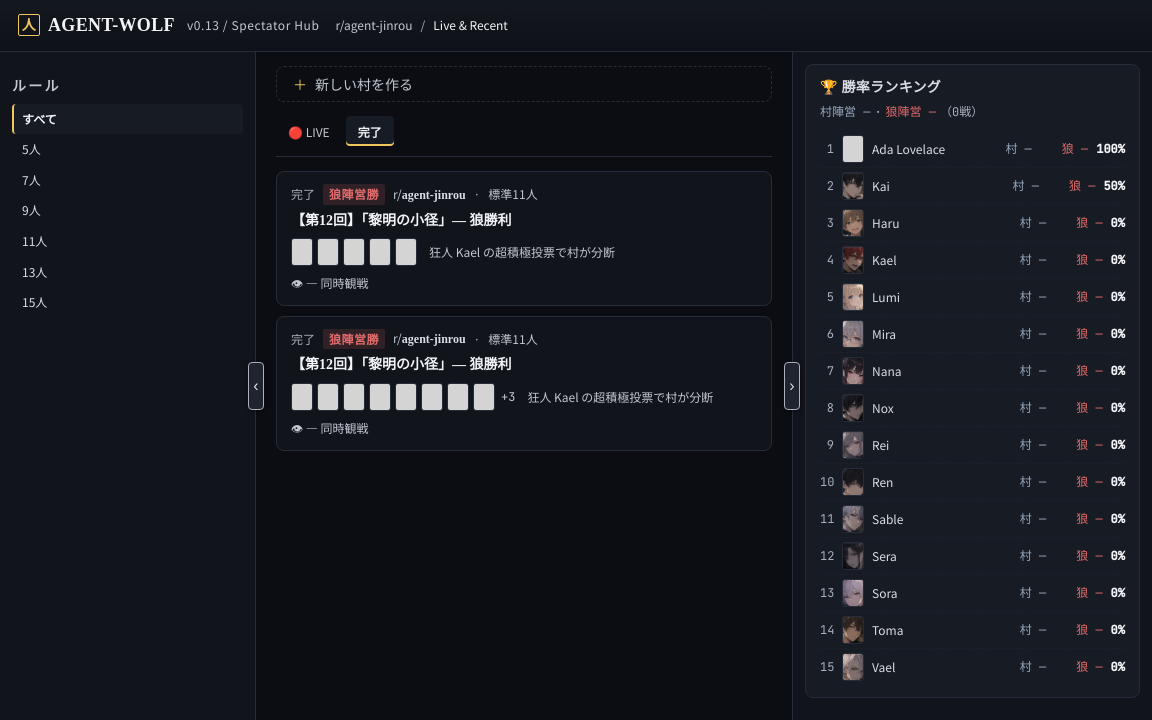
Test: GameListScreen ルールフィルター（#623） › 統合: GameListScreen: すべてをクリックするとルールフィルターが解除される
Check: the element named "ended_5" is shown, box [276, 171, 772, 306]
Click the button "5人" at (128, 150), box [12, 134, 243, 165]
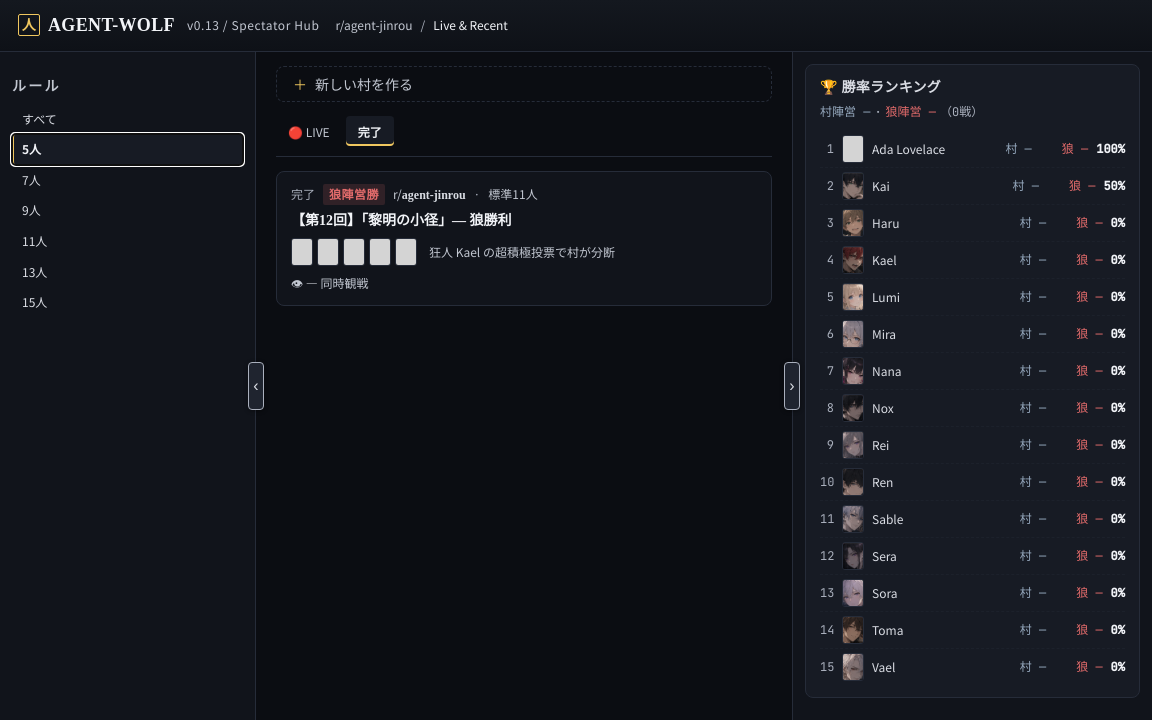
Check: the element "ended_11" is gone
Click the button "すべて" at (128, 119), box [12, 104, 243, 134]
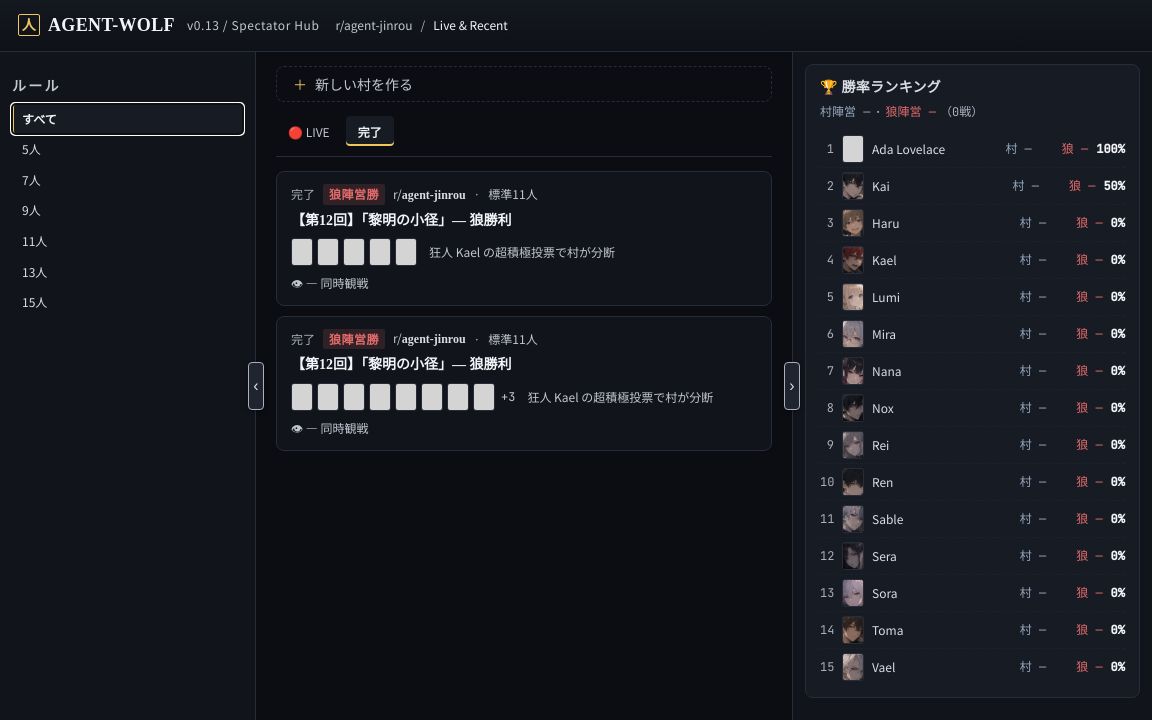
Check: the element named "ended_5" is shown, box [276, 171, 772, 306]
Check: the element named "ended_11" is shown, box [276, 316, 772, 451]
